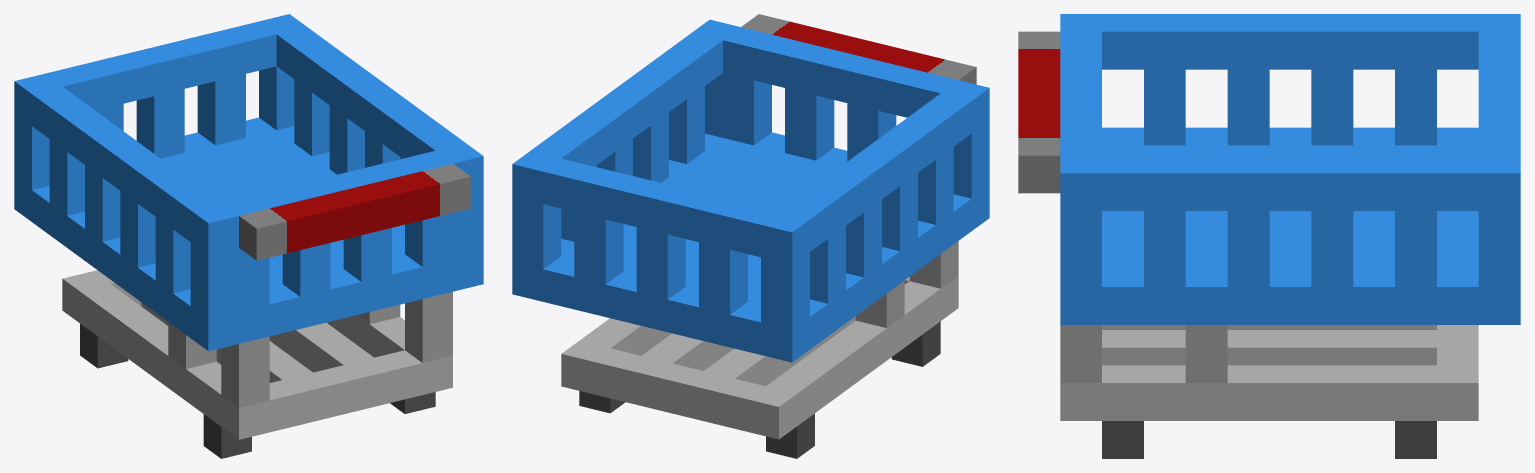
The model's file is obj_cart1a.fbx.
The picture shows the model from 3 angles, left to right: view 1: azimuth 30°, elevation 25°; view 2: azimuth 150°, elevation 25°; view 3: azimuth 270°, elevation 25°; orthographic projection. The views are drawn at different scales.
Parts seen in each view (by area): view 1: obj_cart1a; view 2: obj_cart1a; view 3: obj_cart1a.
Part boxes in pixels (x1,y1,x2,y2): obj_cart1a: [14, 14, 483, 458]; obj_cart1a: [512, 14, 989, 458]; obj_cart1a: [1018, 14, 1520, 458].
Bounding box in the file's own units: 0.9 × 1.2 × 0.8.
Materials: 1 (1 with a texture image).
